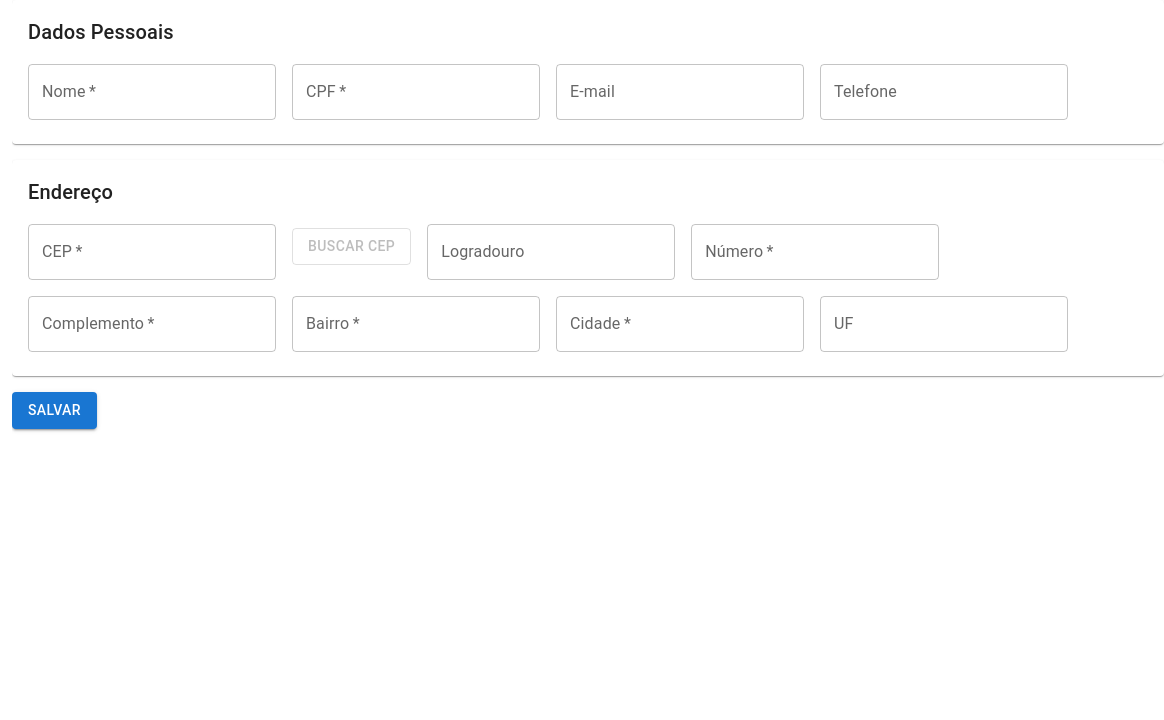
Test: ContactForm › blocks submit when CPF is invalid
In the field labelled "Nome *": (152, 92) [28,64,276,120], type "João"
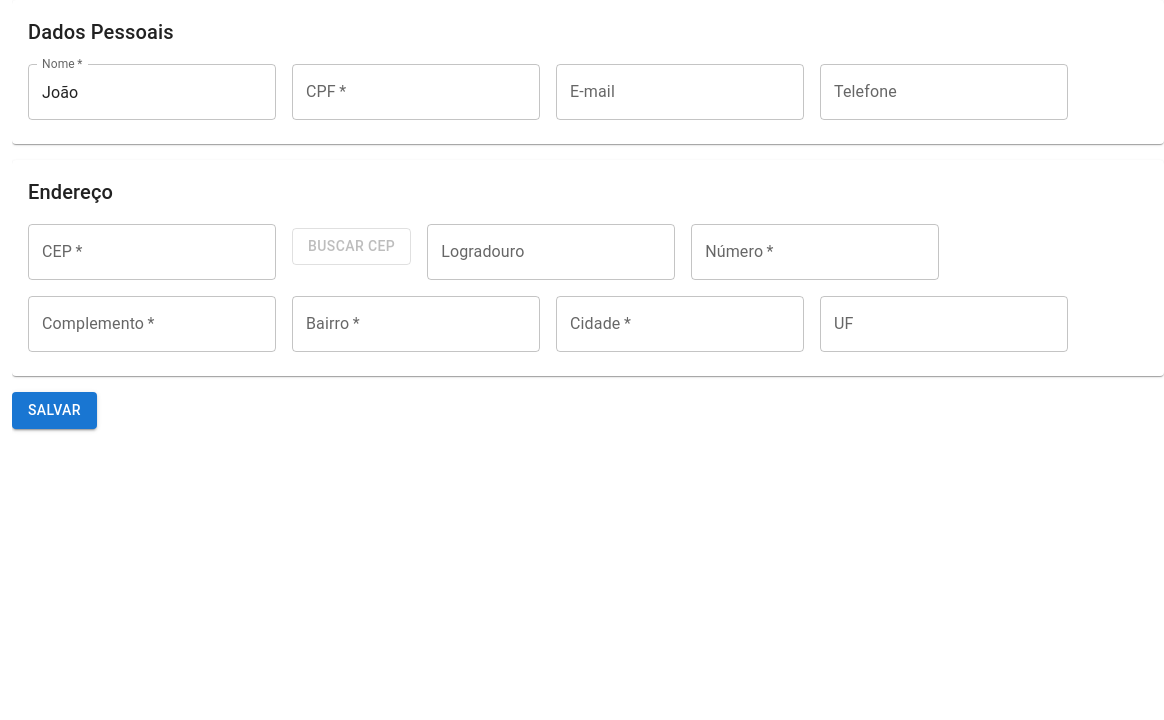
In the field labelled "CPF *": (416, 92) [292,64,540,120], type "12345678900"
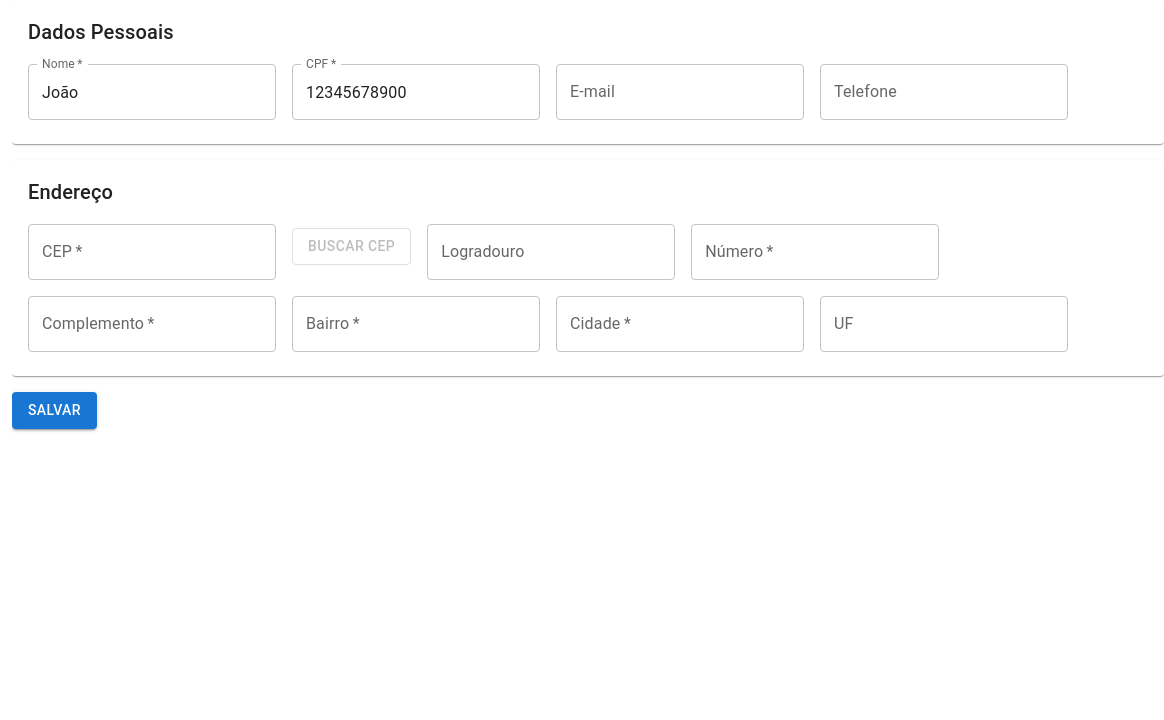
Click the button "Salvar": (54, 410) [12,392,97,428]
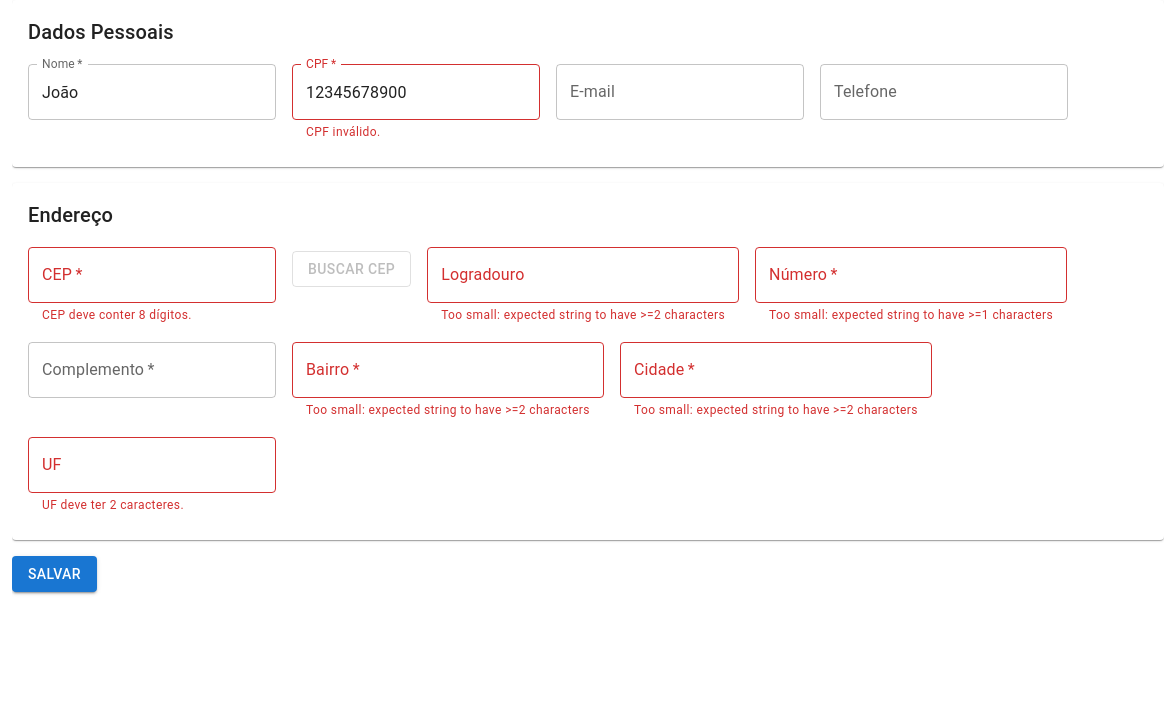
Now the text "CPF inválido." is shown, box [306,125,381,139]
